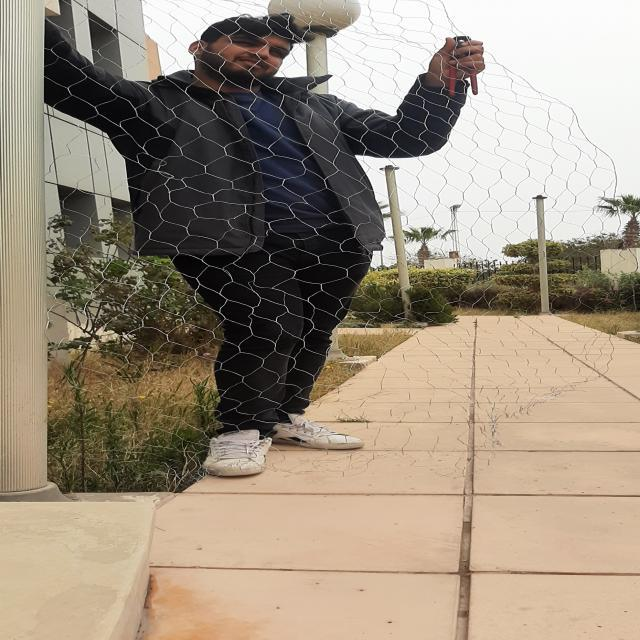fence line: (462, 4, 630, 194), (478, 345, 631, 458)
